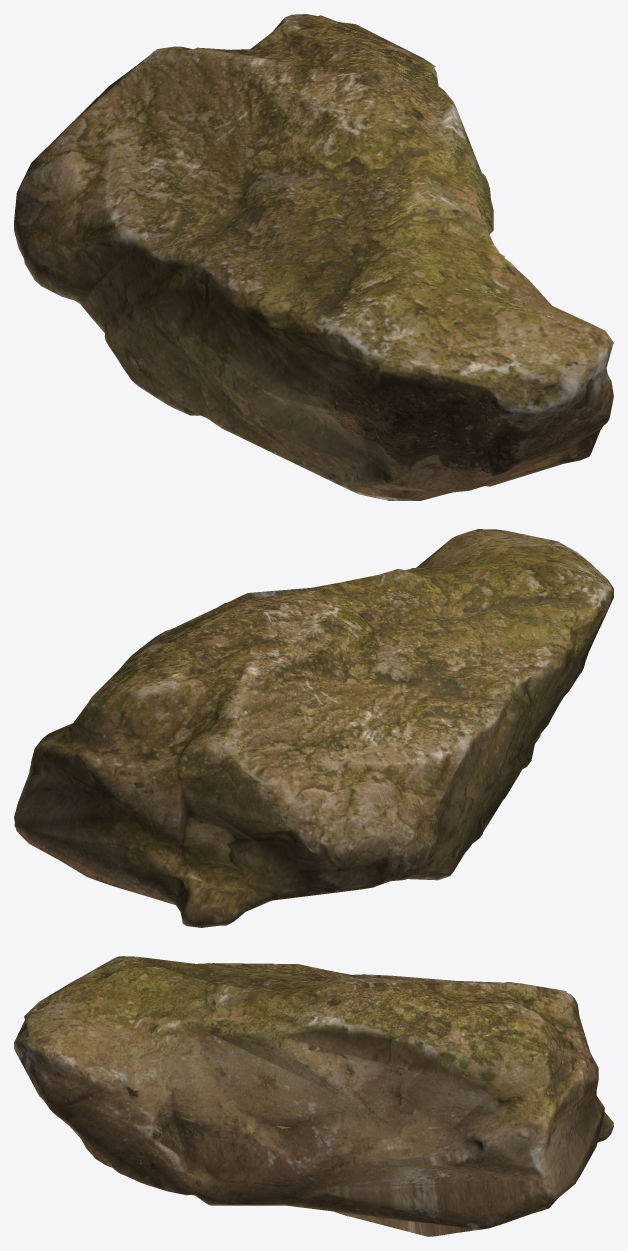
3 renders of one model, top to bottom at view 1: azimuth 30°, elevation 25°; view 2: azimuth 150°, elevation 25°; view 3: azimuth 270°, elevation 25°, orthographic. The views are drawn at different scales.
Visible parts, largest first — view 1: moss_rock_06-material; view 2: moss_rock_06-material; view 3: moss_rock_06-material.
Part boxes in pixels (x1,y1,x2,y2): moss_rock_06-material: (14, 14, 613, 500); moss_rock_06-material: (14, 529, 613, 927); moss_rock_06-material: (14, 956, 613, 1236).
Bounding box in the file's own units: 1.81 × 1.19 × 3.
1 material, 1 textured.
